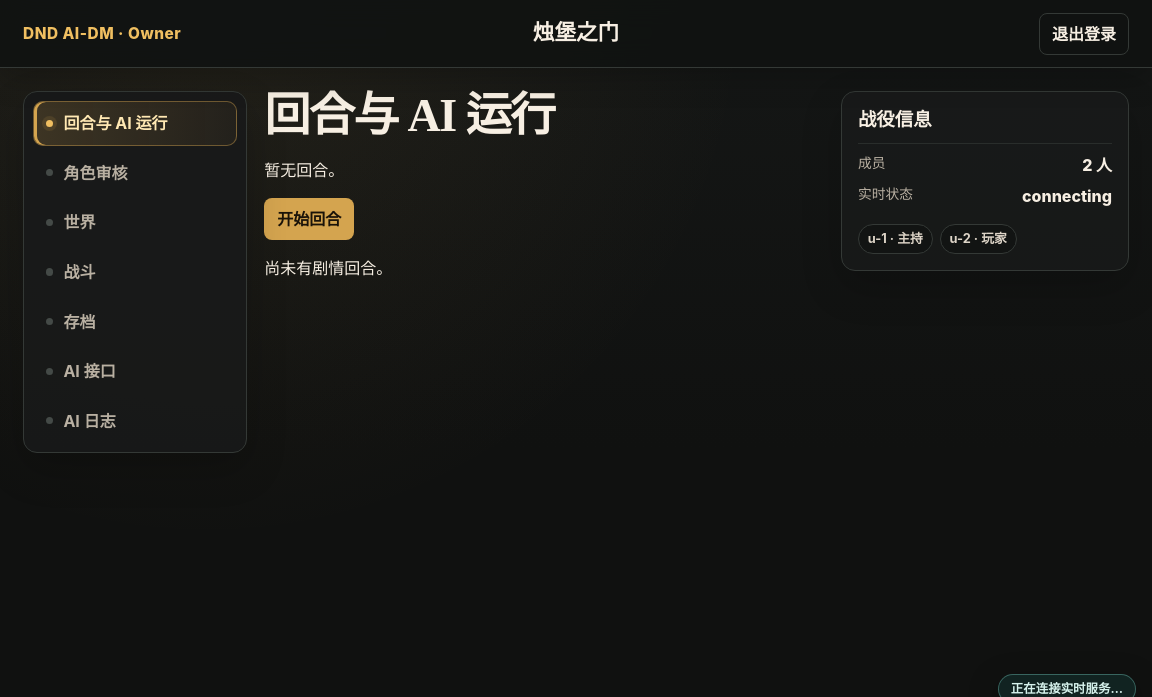
Test case: Owner 工作区 Shell › 渲染三栏：导航、战役名、成员信息；导航可切换页面
Expected: the heading "回合与 AI 运行" is shown, [264,90,554,141]
Expected: the text "烛堡之门" is shown, [533,17,619,50]
Click the link "角色审核": (95, 173) [63,163,127,183]
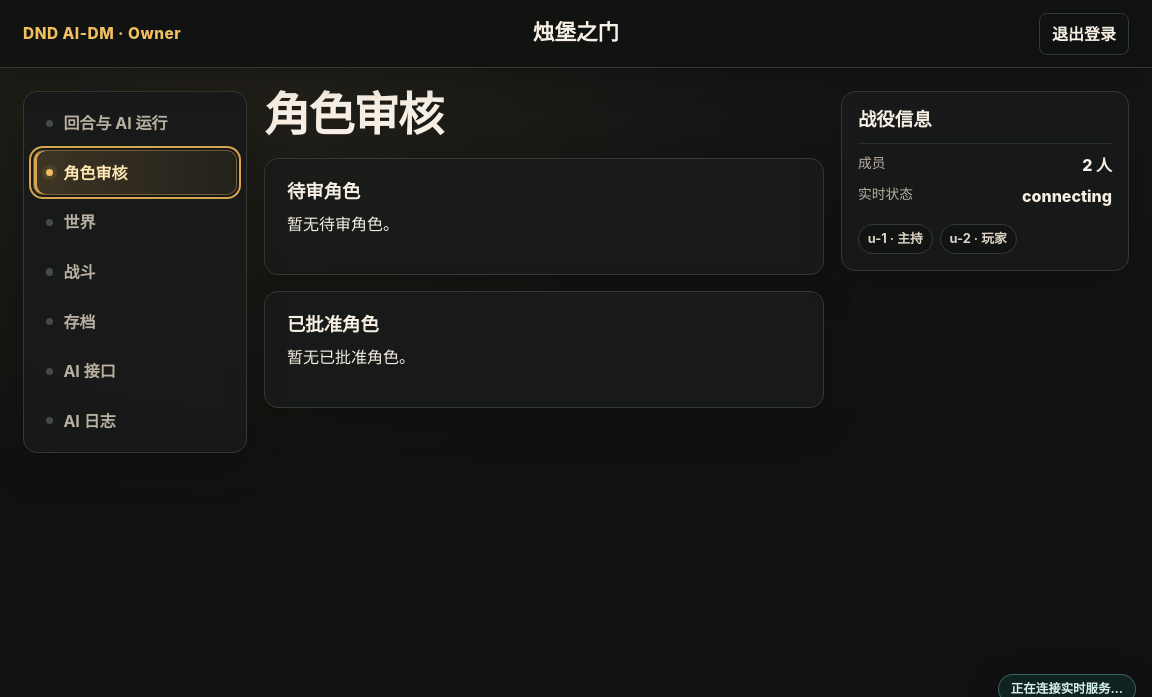
Now the heading "角色审核" is shown, box [264,90,442,141]
Click the link "世界": (79, 222) [63,212,95,232]
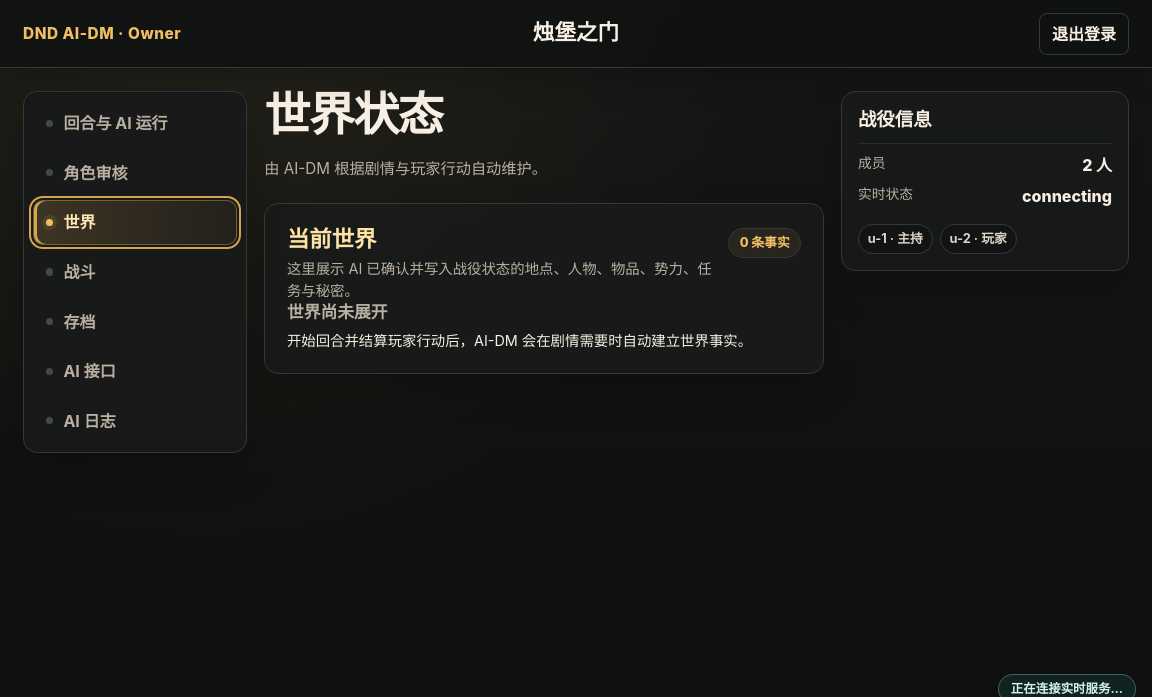
Now the heading "世界状态" is shown, box [264,90,442,141]
Click the link "战斗": (79, 272) [63,262,95,282]
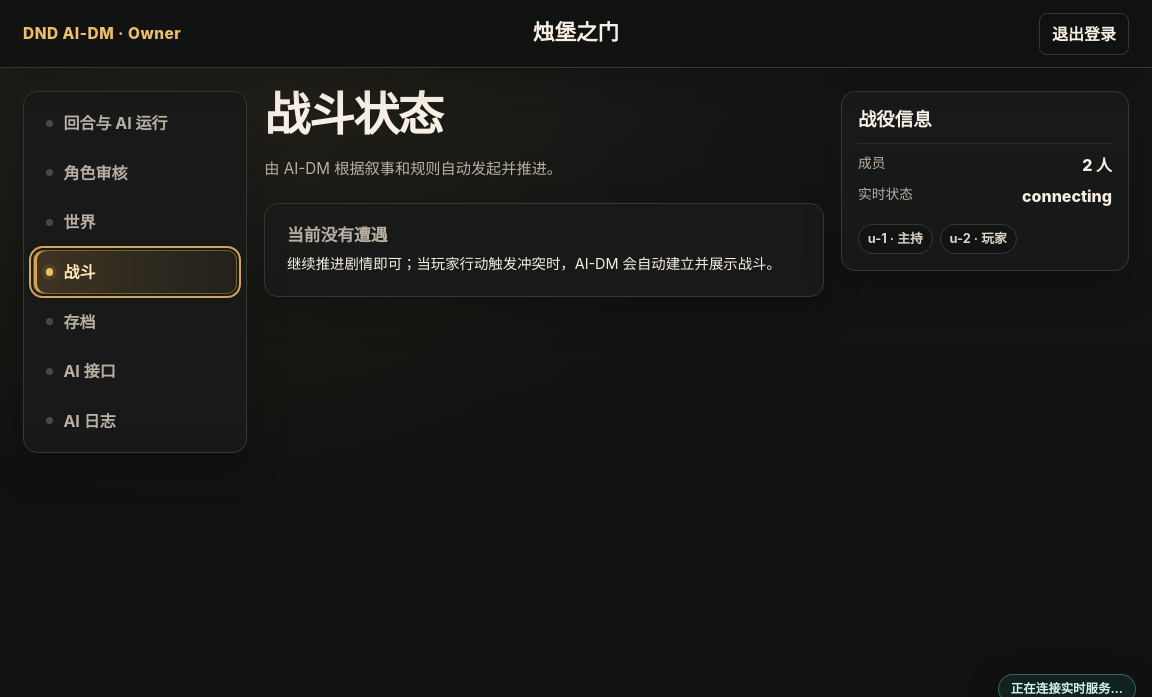
Now the heading "战斗状态" is shown, box [264,90,442,141]
Click the link "存档": (79, 322) [63,312,95,332]
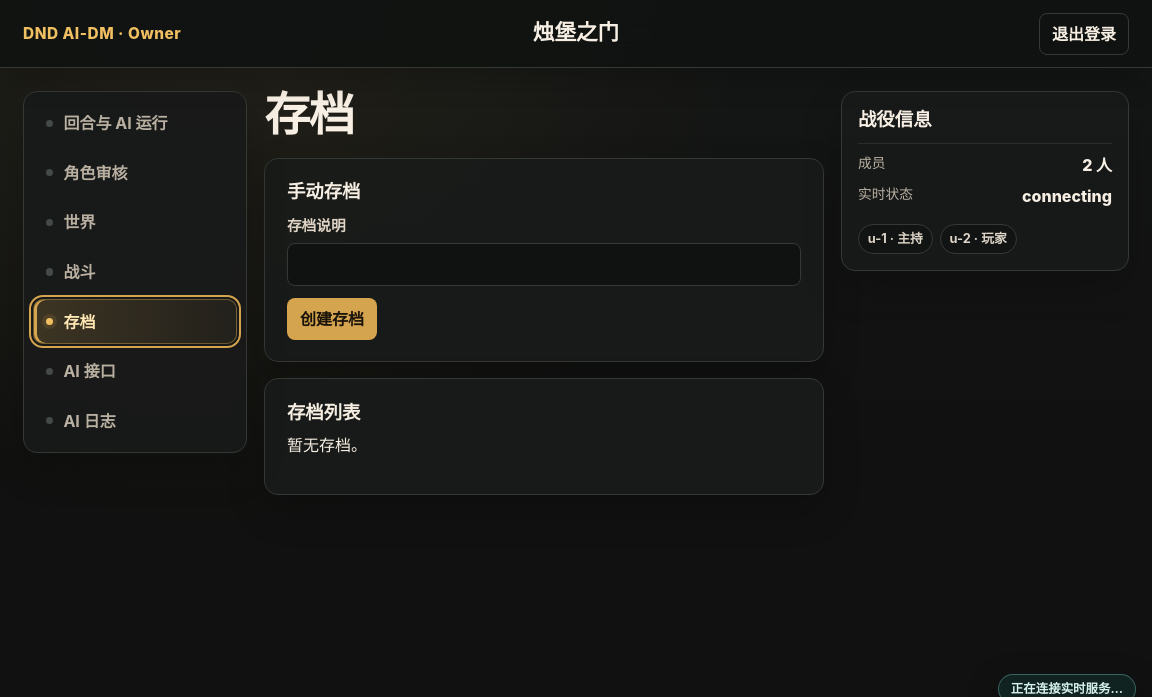
Now the heading "存档" is shown, box [264,90,353,141]
Click the link "AI 接口": (90, 371) [63,361,116,381]
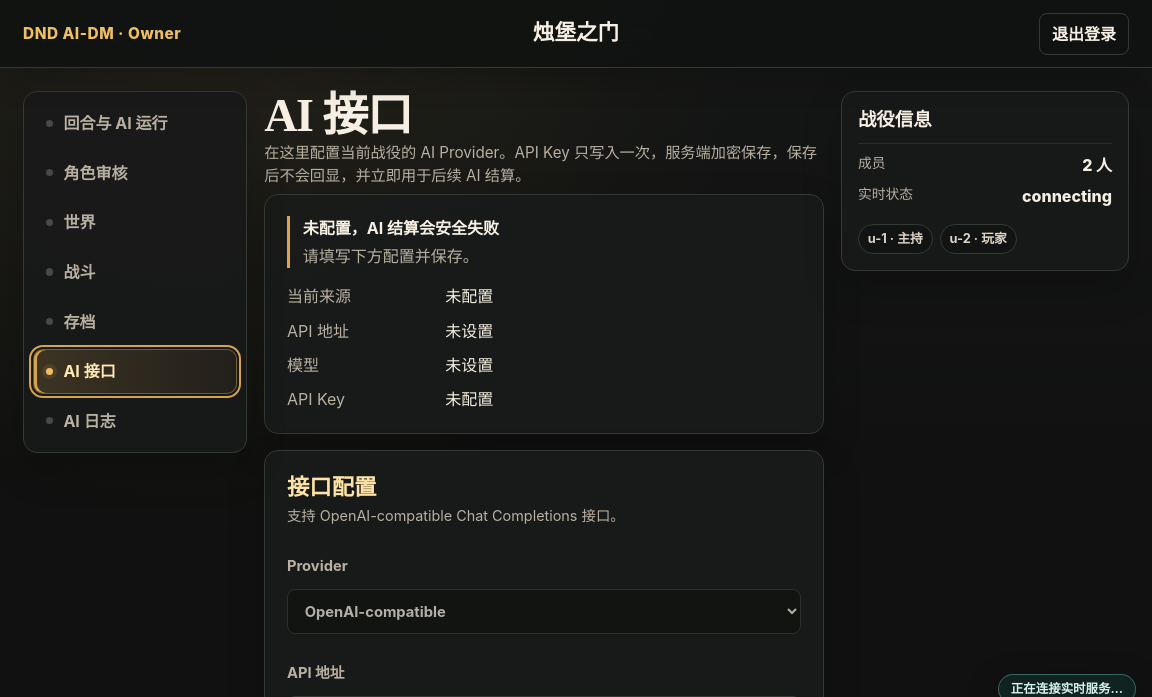
Now the heading "AI 接口" is shown, box [264,90,411,141]
Click the link "AI 日志": (90, 421) [63,411,116,431]
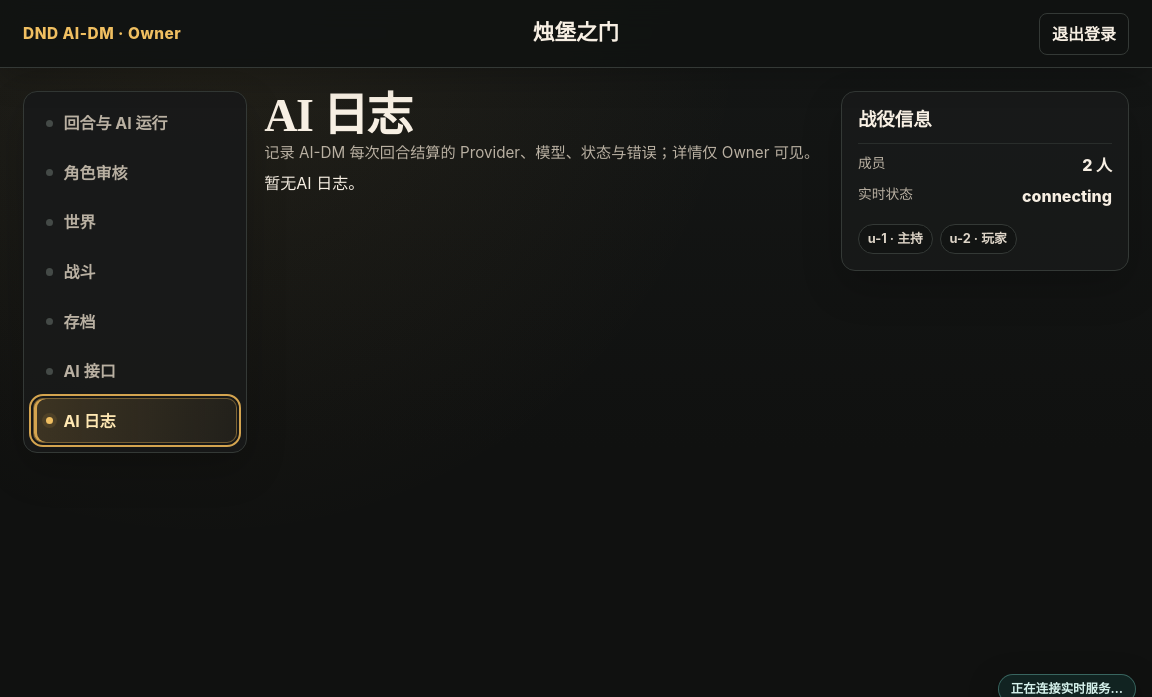
Now the heading "AI 日志" is shown, box [264,90,411,141]
